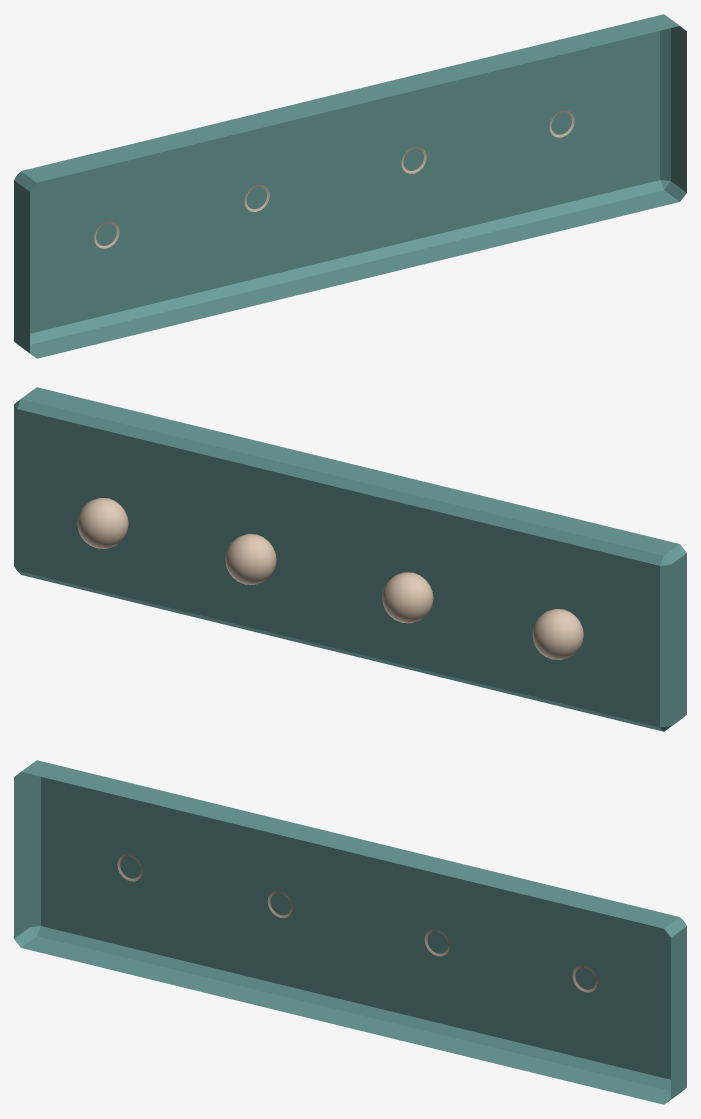
The model's file is coatHanger.fbx.
3 renders of one model, top to bottom at view 1: azimuth 30°, elevation 25°; view 2: azimuth 150°, elevation 25°; view 3: azimuth 330°, elevation 25°, orthographic.
Visible parts, largest first — view 1: coatRack; view 2: coatRack; view 3: coatRack.
Boxes of the visible parts, left/top/right/bottom form: coatRack: left=14, top=14, right=686, bottom=358; coatRack: left=14, top=387, right=686, bottom=731; coatRack: left=14, top=760, right=686, bottom=1104.
Size of the model in its own units: 0.9296 by 0.238 by 0.1106.
